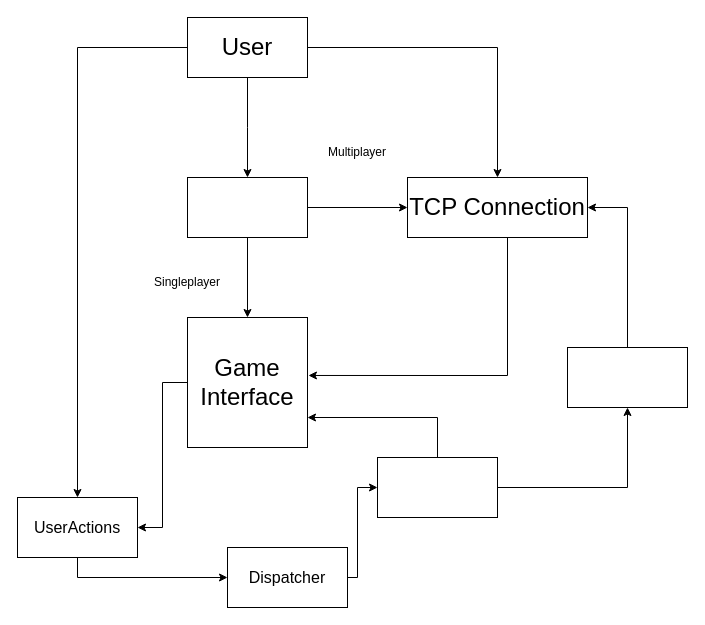
The diagram is 705 pixels wide and 625 high, and some of its shapes have lost their labels. Here are the shapes that lost their labels. From the top down, the box of each, then its label:
(186, 176, 308, 238): Selection menu
(566, 346, 688, 408): Parser
(376, 456, 498, 518): Events
